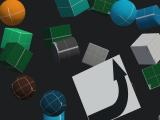Left: (72, 54, 141, 120)
